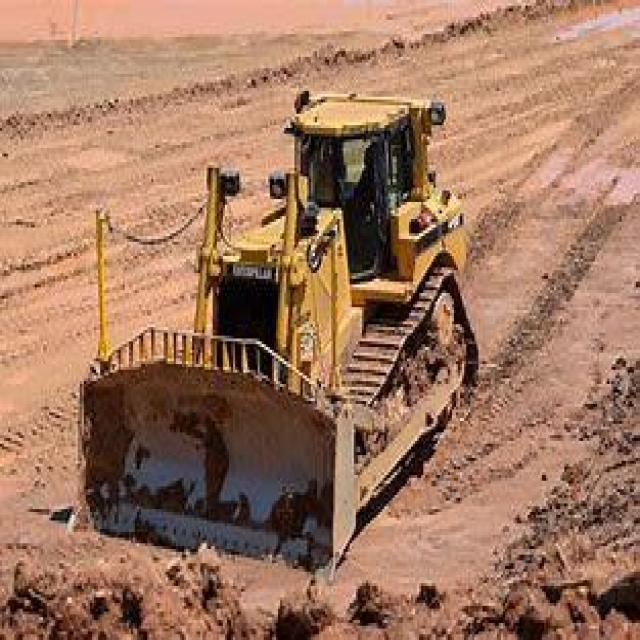Bulldozer: (70, 68, 488, 575)
